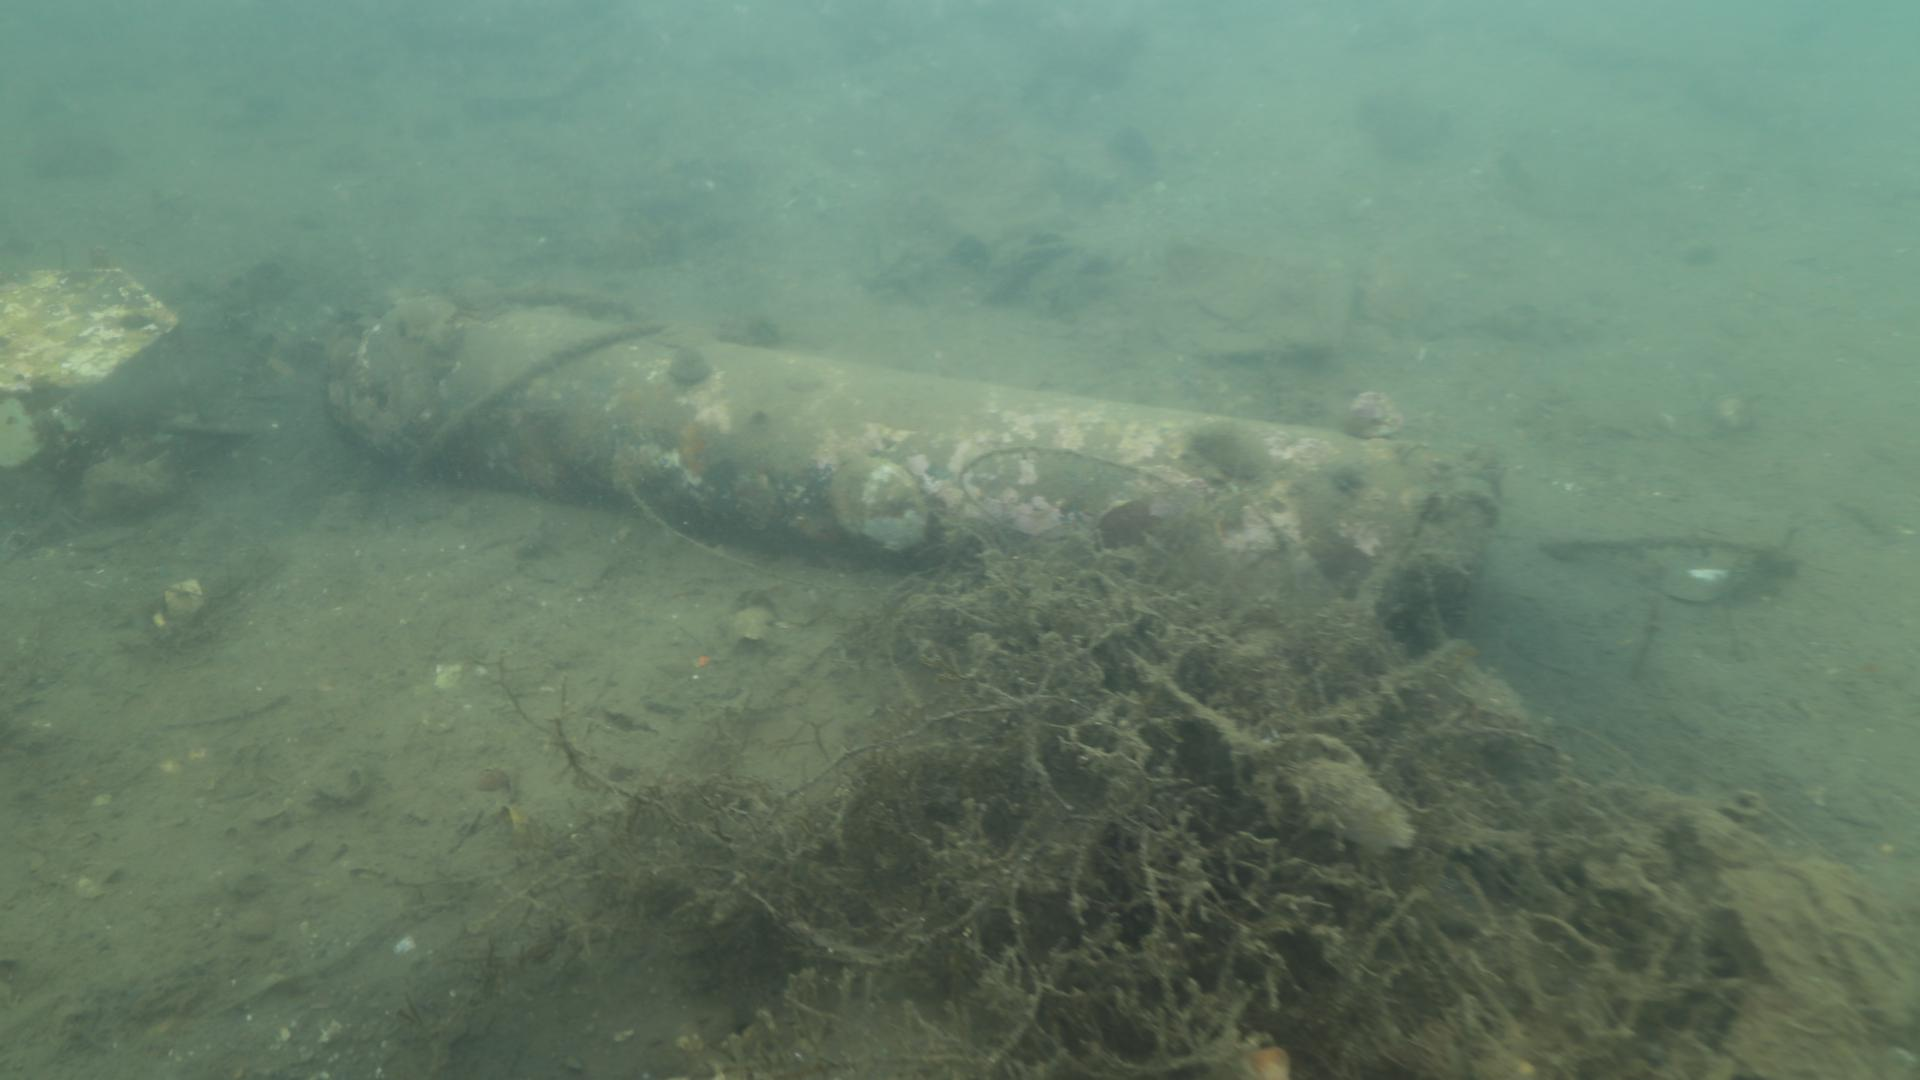eel fish trap: (324, 290, 1493, 636)
